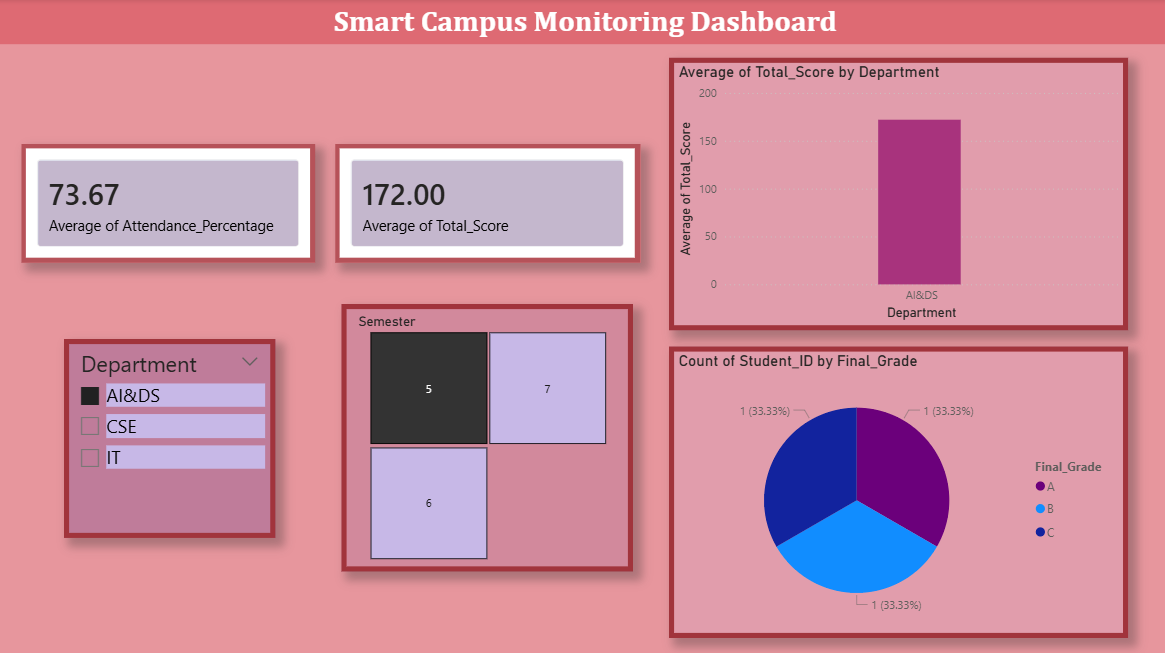

The page's visual inventory and layout, read from the dashboard file:
{"tool":"powerbi","page":{"name":"Page 1","canvas":[1280,720],"ordinal":0},"visuals":[{"type":"textbox","box":[0,0,1280.3,49.4],"z":0},{"type":"cardVisual","fields":{"Data":["Avg(5 student_performance.Attendance_Percentage)"]},"box":[24.7,159.2,322.5,130.4],"z":1000},{"type":"cardVisual","fields":{"Data":["Avg(5 student_performance.Total_Score)"]},"box":[369.1,159.2,334.8,130.4],"z":2000},{"type":"slicer","fields":{"Values":["5 student_performance.Department"]},"box":[71.7,373.3,231.7,218.3],"z":3000},{"type":"slicer","fields":{"Values":["5 student_performance.Semester"]},"box":[376.7,335,320,293.3],"z":4000},{"type":"clusteredColumnChart","fields":{"Y":["Avg(5 student_performance.Total_Score)"],"Category":["5 student_performance.Department","5 student_performance.Semester","5 student_performance.Subject"]},"box":[735.9,63.9,504.3,299.2],"z":5000},{"type":"pieChart","fields":{"Category":["5 student_performance.Final_Grade"],"Y":["CountNonNull(5 student_performance.Student_ID)"]},"box":[735.9,381.2,504.3,319.7],"z":6000}]}

Visuals, with their boxes in screenshot pixels (x1, y1, x2, y2), scaled from the page's 1280x720 canvas onto the 1165x653 screenshot:
textbox: box=[0, 0, 1164, 45]
cardVisual - Avg(5 student_performance.Attendance_Percentage): box=[22, 144, 316, 263]
cardVisual - Avg(5 student_performance.Total_Score): box=[336, 144, 641, 263]
slicer - 5 student_performance.Department: box=[65, 339, 276, 537]
slicer - 5 student_performance.Semester: box=[343, 304, 634, 570]
clusteredColumnChart - Avg(5 student_performance.Total_Score) x 5 student_performance.Department: box=[670, 58, 1129, 329]
pieChart - 5 student_performance.Final_Grade x CountNonNull(5 student_performance.Student_ID): box=[670, 346, 1129, 636]
